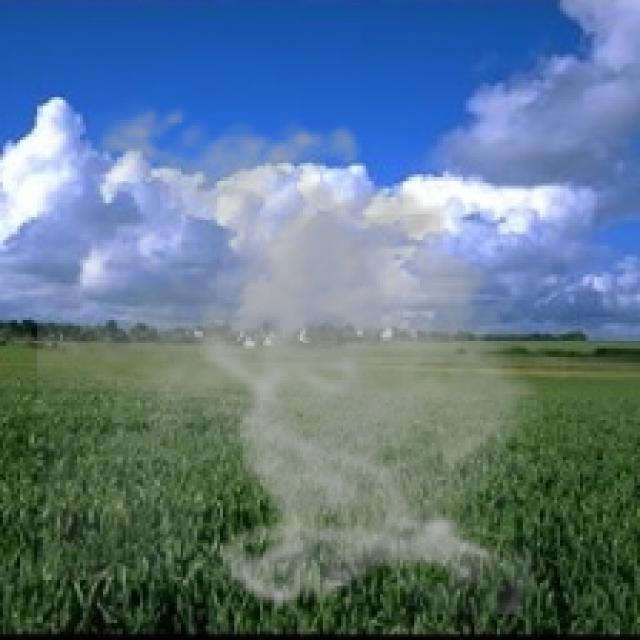Smoke: (37, 91, 563, 614)
